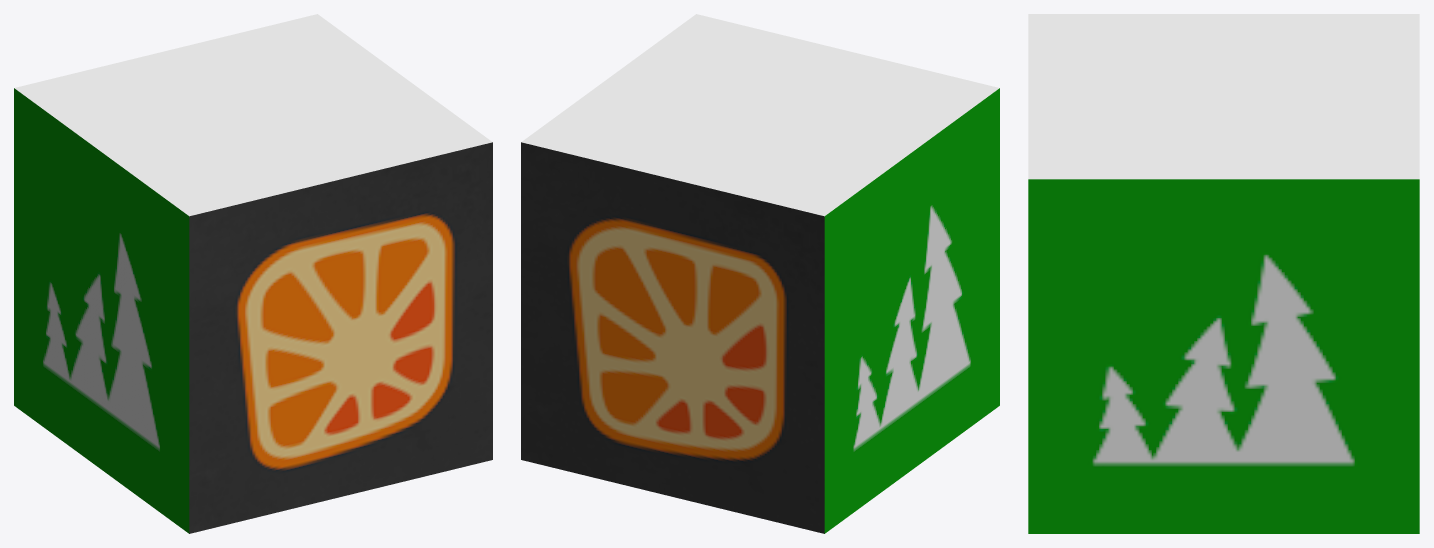
Rendered from BoxWLink.fbx.
3 views of the same model, side by side, from view 1: azimuth 30°, elevation 25°; view 2: azimuth 150°, elevation 25°; view 3: azimuth 270°, elevation 25° (orthographic). The views are drawn at different scales.
Visible parts, largest first — view 1: Cube; view 2: Cube; view 3: Cube.
Boxes of the visible parts, x1,y1,x2,y2 form: Cube: (14, 14, 492, 533); Cube: (521, 14, 999, 533); Cube: (1028, 14, 1419, 533).
Bounding box in the file's own units: 26.08 × 26.08 × 26.08.
